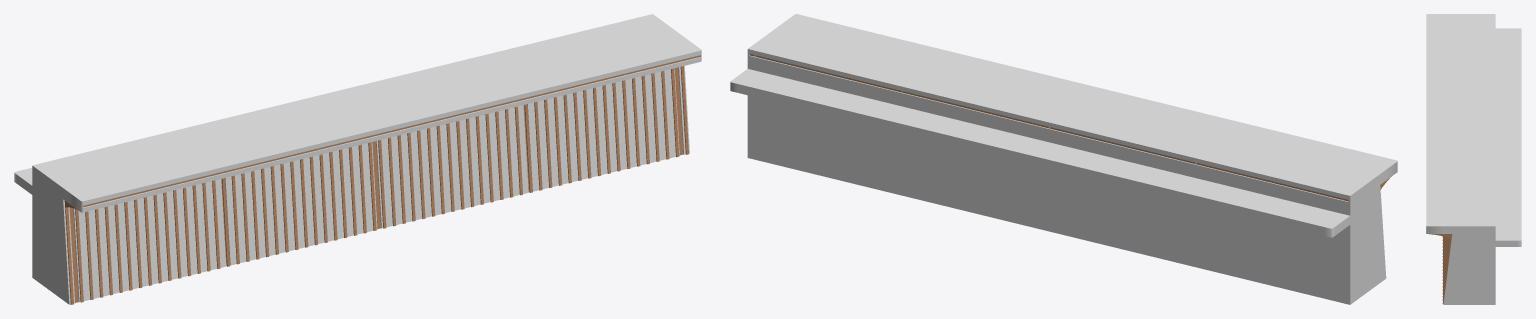
File: frontdesk.fbx
3 views of the same model, side by side, from view 1: azimuth 30°, elevation 25°; view 2: azimuth 150°, elevation 25°; view 3: azimuth 270°, elevation 25° (orthographic). The views are drawn at different scales.
Visible parts, largest first — view 1: frontdesk; view 2: frontdesk; view 3: frontdesk.
Boxes of the visible parts, x1,y1,x2,y2 form: frontdesk: (14, 14, 701, 304); frontdesk: (730, 14, 1397, 304); frontdesk: (1426, 14, 1521, 304).
Bounding box in the file's own units: 578 × 100 × 110.
